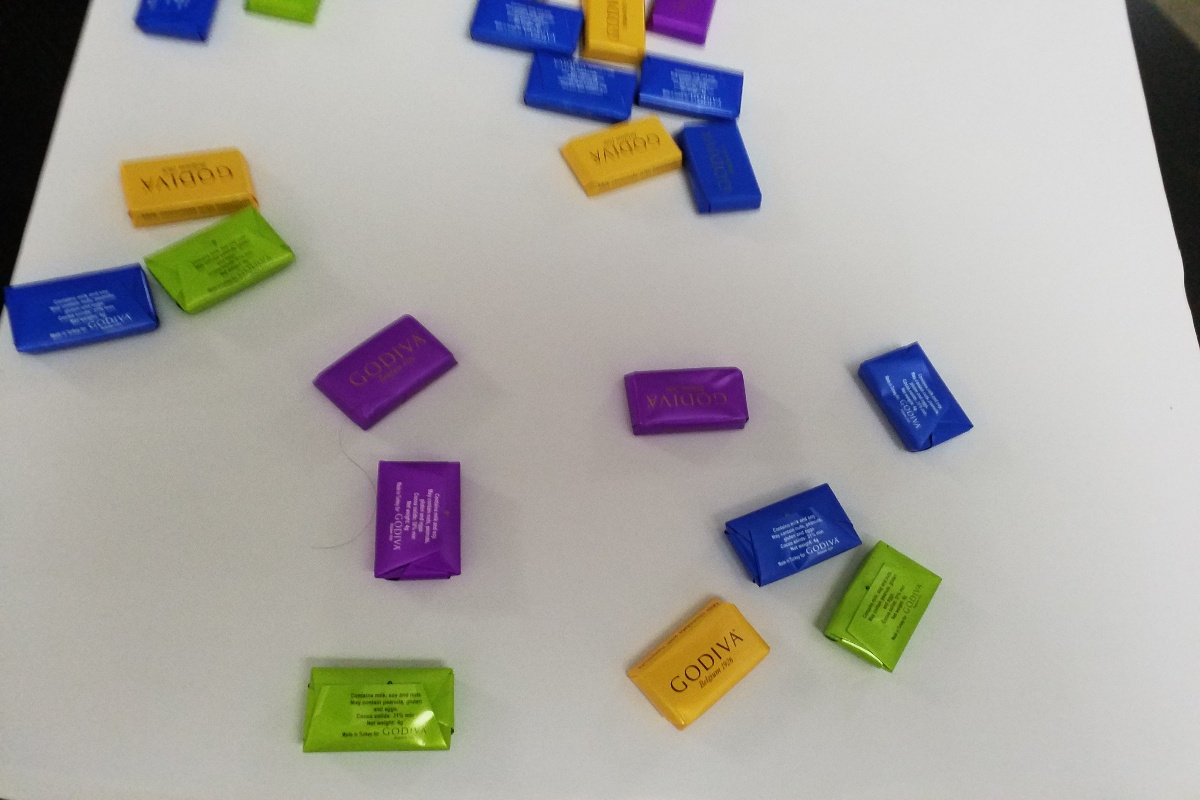chocolate_blue: (852, 326, 974, 470), (708, 482, 864, 588), (15, 278, 173, 363)
chocolate_green: (297, 660, 462, 756), (137, 217, 304, 310), (827, 541, 941, 676)
chocolate_purple: (309, 312, 472, 431), (368, 457, 476, 588), (620, 360, 755, 445)
chocolate_yellow: (610, 580, 777, 737), (113, 144, 265, 222)
